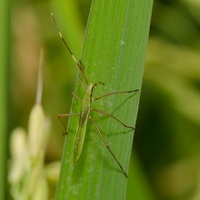insect: (51, 13, 139, 176)
